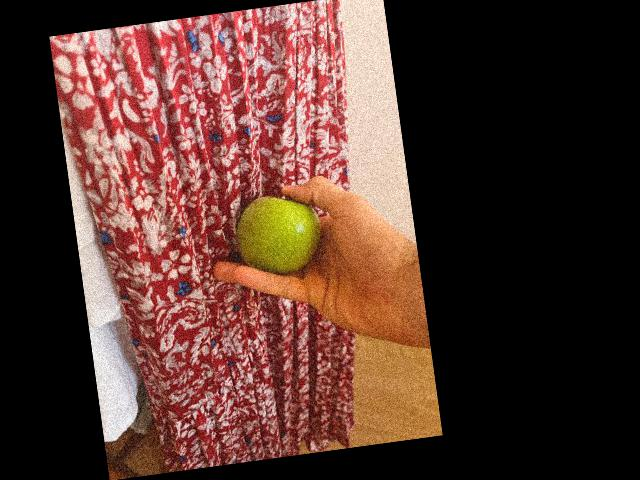apple: (233, 193, 316, 278)
